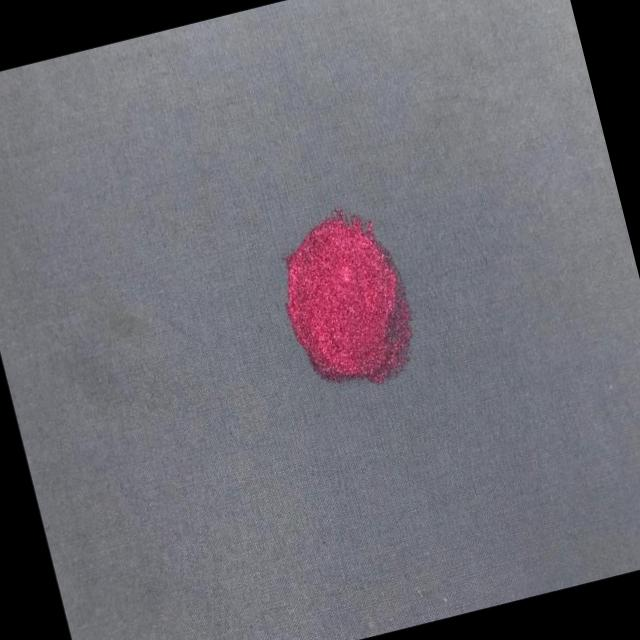Stain: (263, 195, 435, 402)
